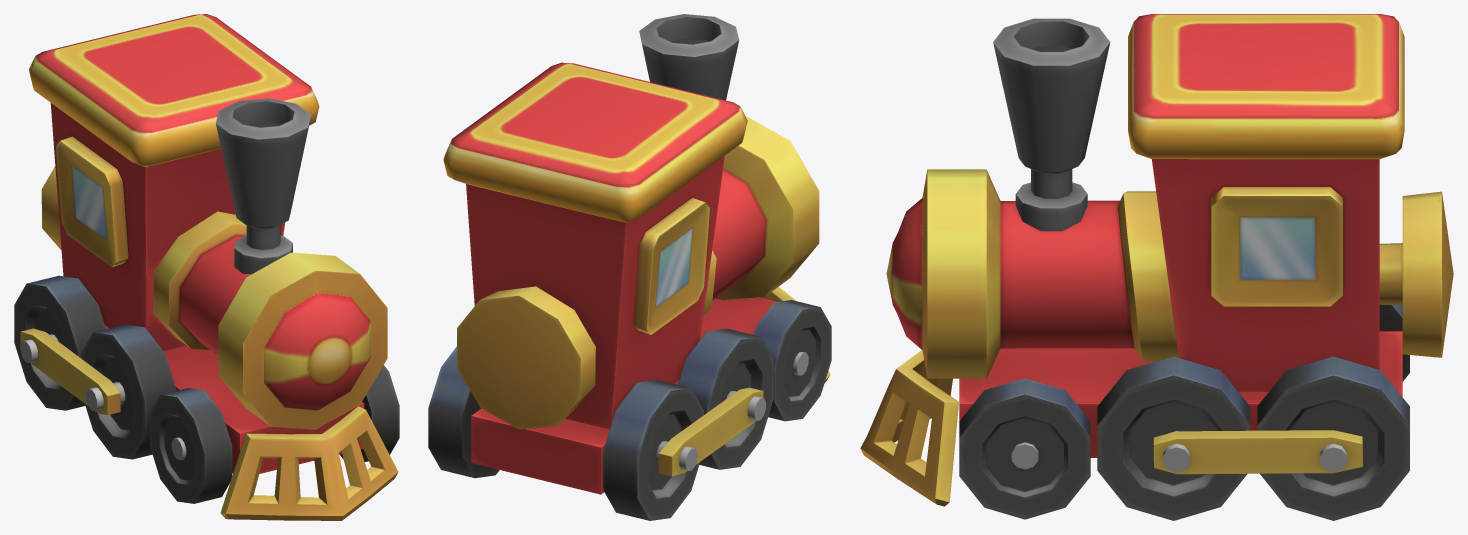
Rendered from train_red.fbx.
3 renders of one model, left to right at view 1: azimuth 30°, elevation 25°; view 2: azimuth 150°, elevation 25°; view 3: azimuth 270°, elevation 25°, orthographic. The views are drawn at different scales.
Visible parts, largest first — view 1: train_red; view 2: train_red; view 3: train_red.
Boxes of the visible parts, x1=… form: train_red: x1=14, y1=14, x2=399, y2=520; train_red: x1=428, y1=14, x2=831, y2=520; train_red: x1=860, y1=14, x2=1453, y2=520.
Bounding box in the file's own units: 0.7368 × 1.04 × 1.32.
